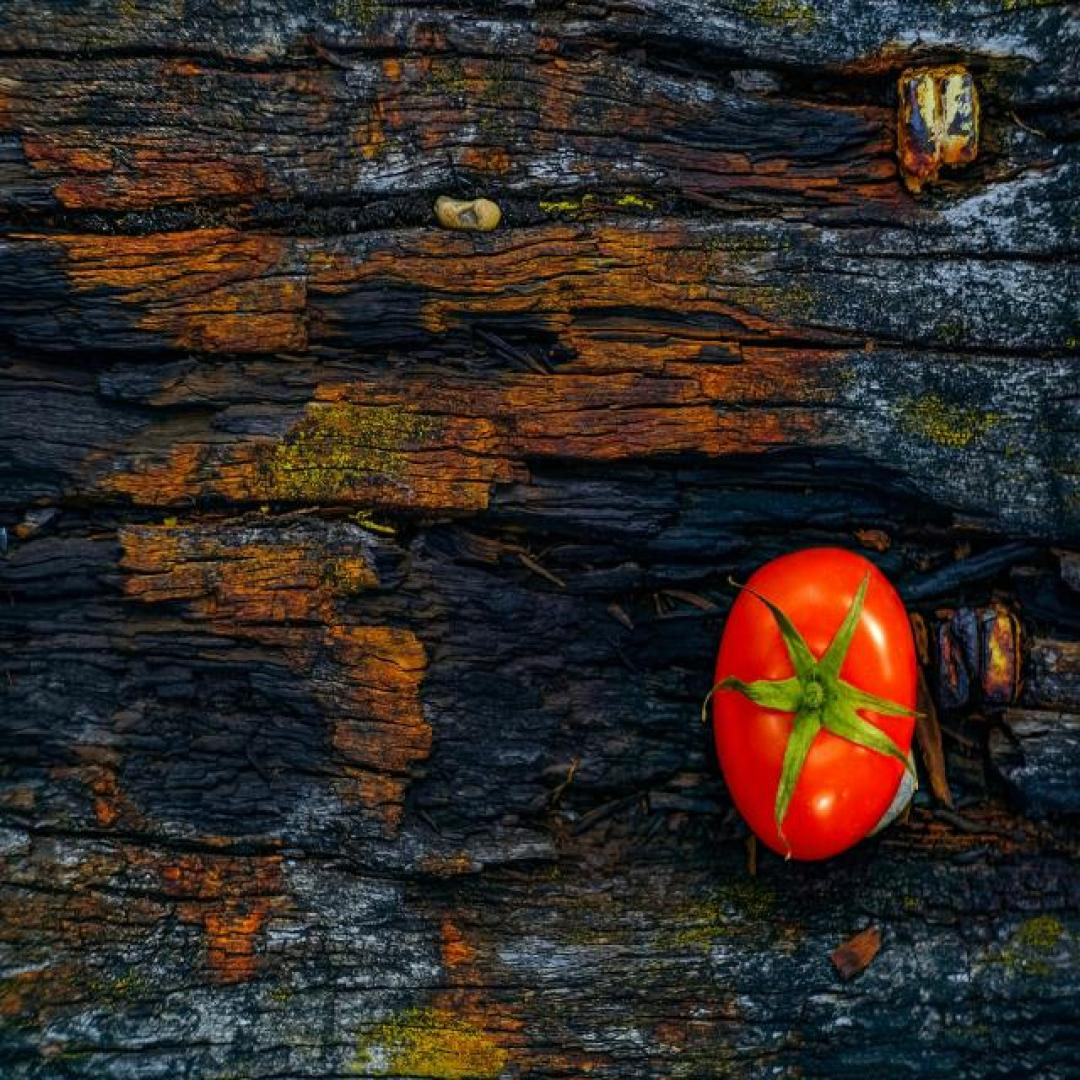matang: (712, 550, 916, 862)
